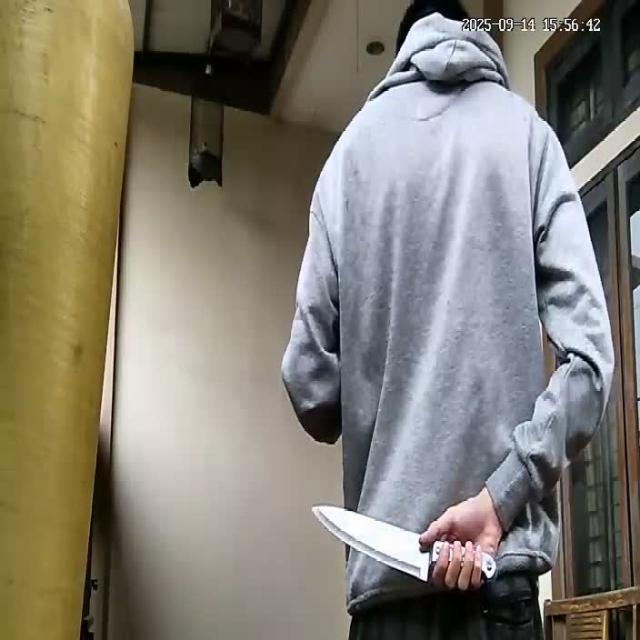senjata_tajam: (310, 501, 432, 584)
